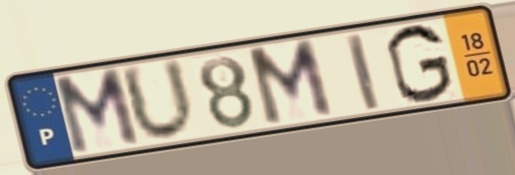8: (195, 52, 258, 133)
G: (383, 22, 456, 106)
I: (342, 30, 384, 114)
M: (49, 64, 145, 160), (243, 35, 339, 131)
U: (116, 55, 200, 144)
